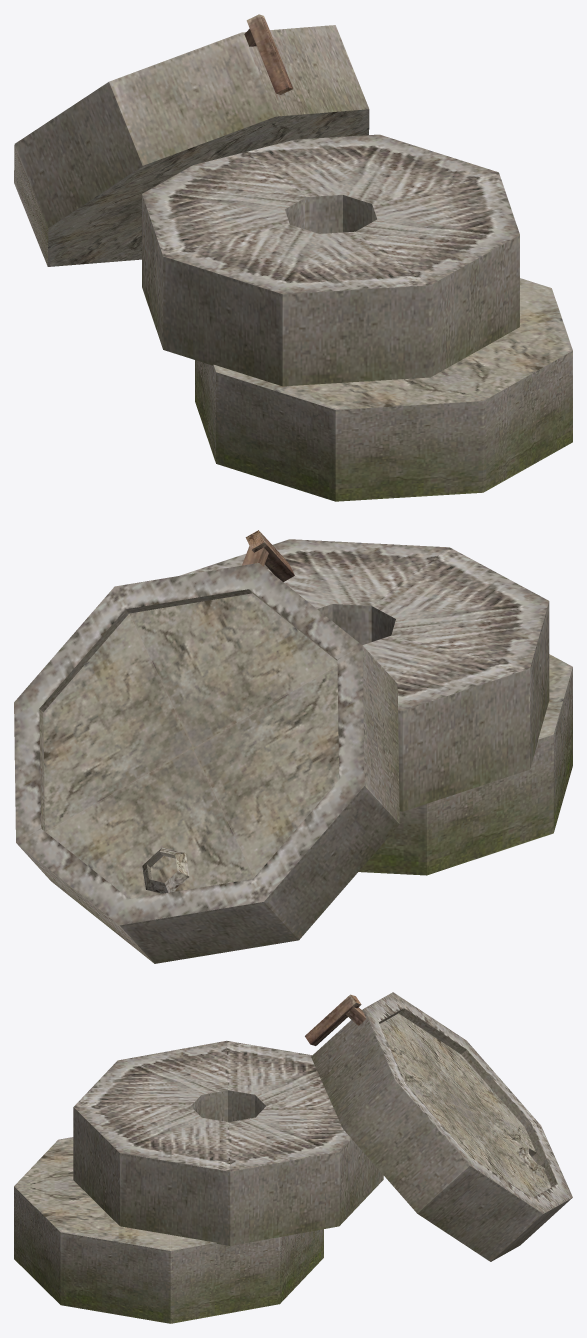
3 views of the same model, one above another, from view 1: azimuth 30°, elevation 25°; view 2: azimuth 150°, elevation 25°; view 3: azimuth 270°, elevation 25° (orthographic). The views are drawn at different scales.
Parts seen in each view (by area): view 1: qingmo_obj_020 [10484441]; view 2: qingmo_obj_020 [10484441]; view 3: qingmo_obj_020 [10484441].
Part boxes in pixels (x1,y1,x2,y2): qingmo_obj_020 [10484441]: (14, 14, 572, 501); qingmo_obj_020 [10484441]: (14, 530, 572, 963); qingmo_obj_020 [10484441]: (14, 992, 572, 1323).
Bounding box in the file's own units: 11.37 × 19.6 × 10.04.
1 material, 1 textured.
